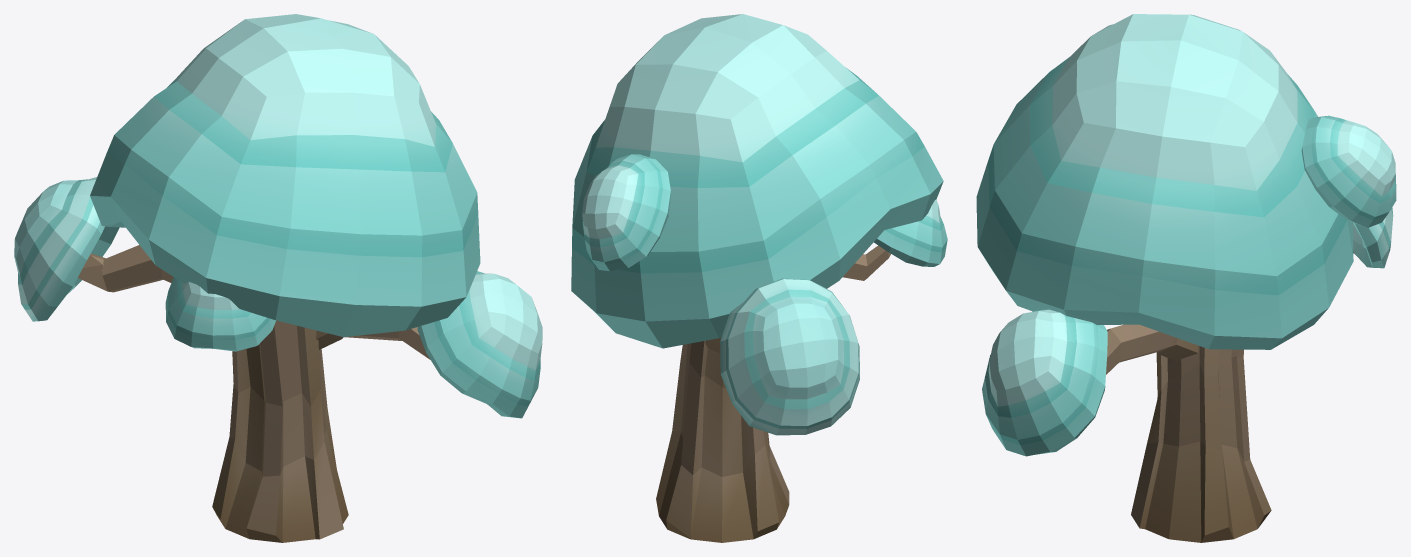
File: Tree_Medium_C.fbx
3 renders of one model, left to right at view 1: azimuth 30°, elevation 25°; view 2: azimuth 150°, elevation 25°; view 3: azimuth 270°, elevation 25°, orthographic. The views are drawn at different scales.
Visible parts, largest first — view 1: Tree_Medium_C; view 2: Tree_Medium_C; view 3: Tree_Medium_C.
Part boxes in pixels (x1=…): Tree_Medium_C: x1=14, y1=14, x2=542, y2=542; Tree_Medium_C: x1=571, y1=14, x2=947, y2=542; Tree_Medium_C: x1=976, y1=14, x2=1396, y2=542.
Bounding box in the file's own units: 170 × 217 × 169.
